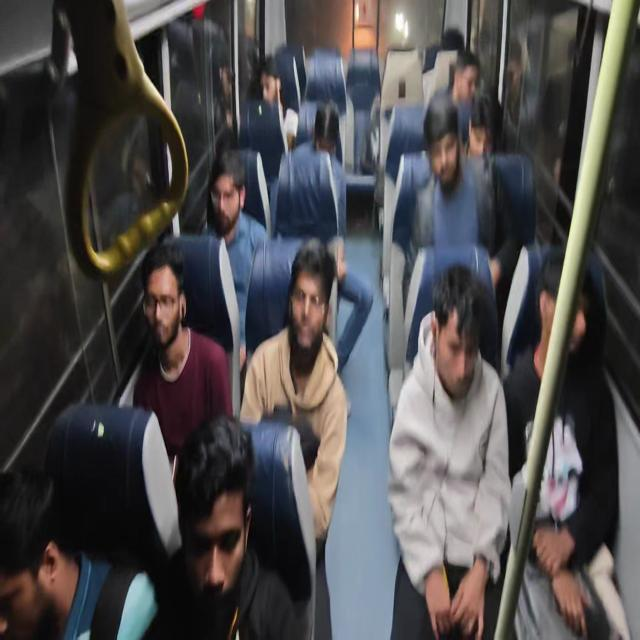person: (501, 244, 623, 638), (388, 262, 512, 638), (239, 238, 348, 637), (140, 414, 299, 638), (1, 465, 158, 639), (132, 241, 233, 468), (411, 90, 495, 252), (200, 148, 268, 348), (0, 465, 59, 639), (289, 101, 347, 238), (424, 49, 480, 146), (258, 55, 298, 154), (499, 36, 532, 152), (464, 94, 494, 158)
